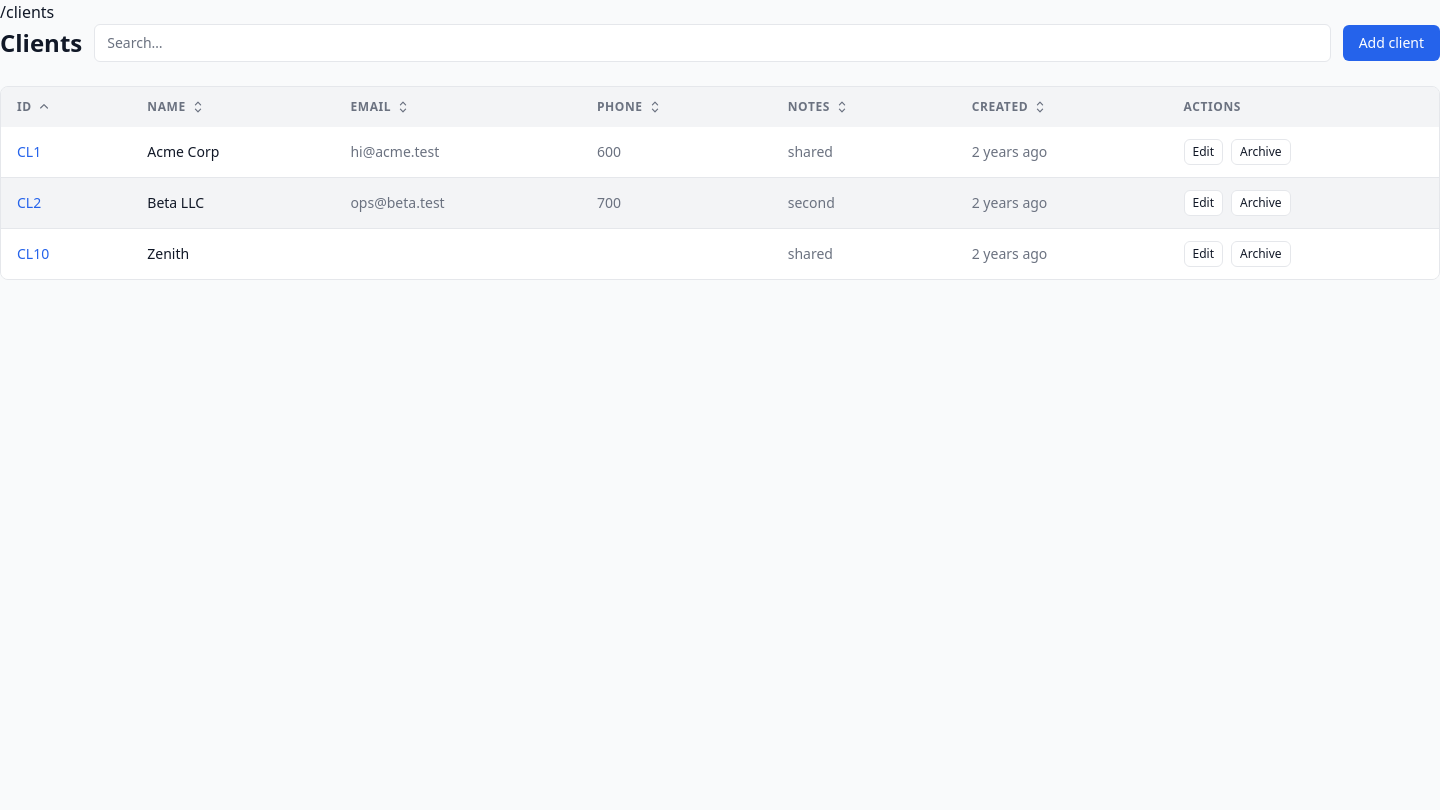
it: ClientsPage › edits a client from its row without navigating
The width and height of the screenshot is (1440, 810).
Click the button with test id "client-edit-CL1" at (1203, 152), box [1184,139,1223,165]
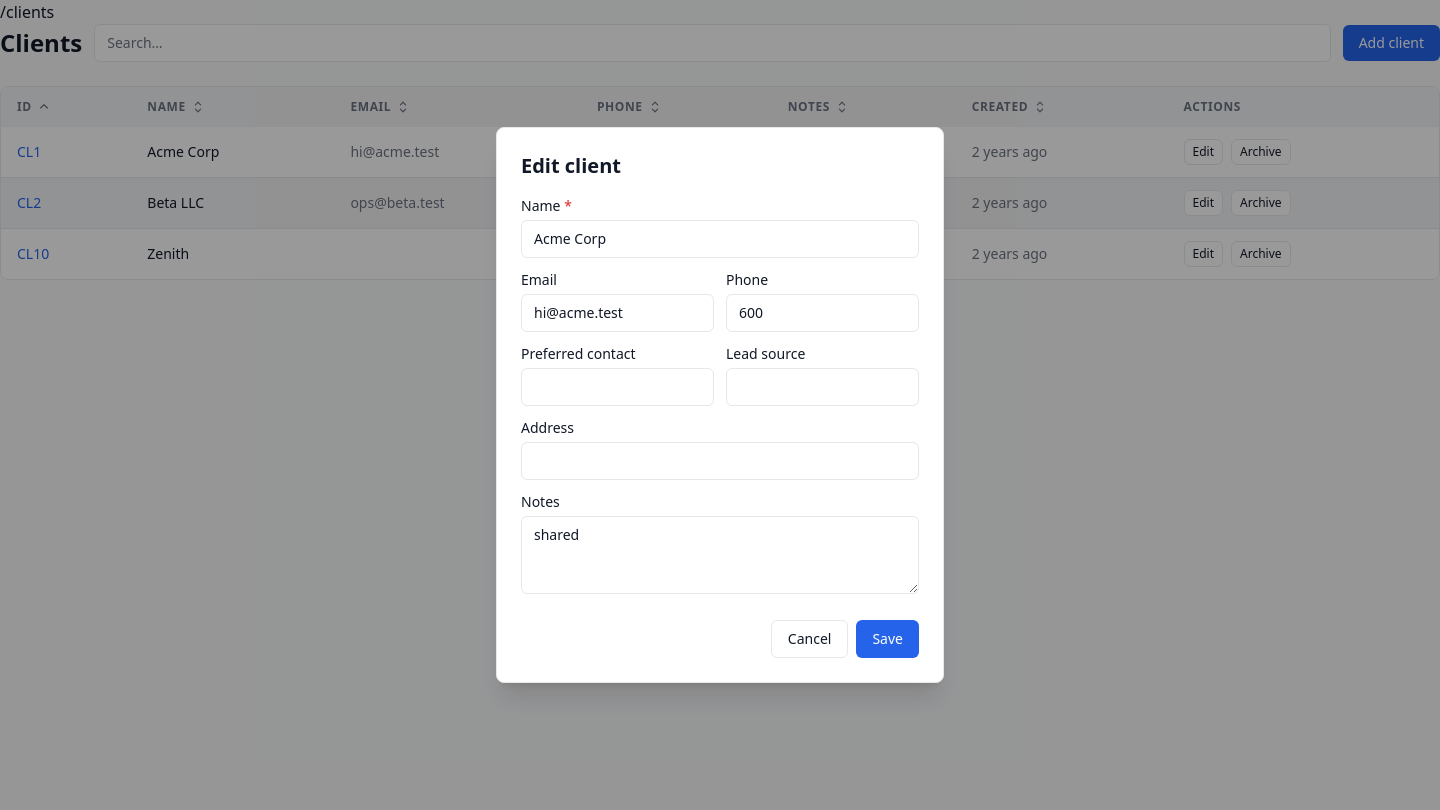
Check: the heading "Edit client" is shown, box [521,152,621,179]
Replace the text in the field labelled "Name *" with "Acme Renamed" at (720, 239), box [521,220,919,258]
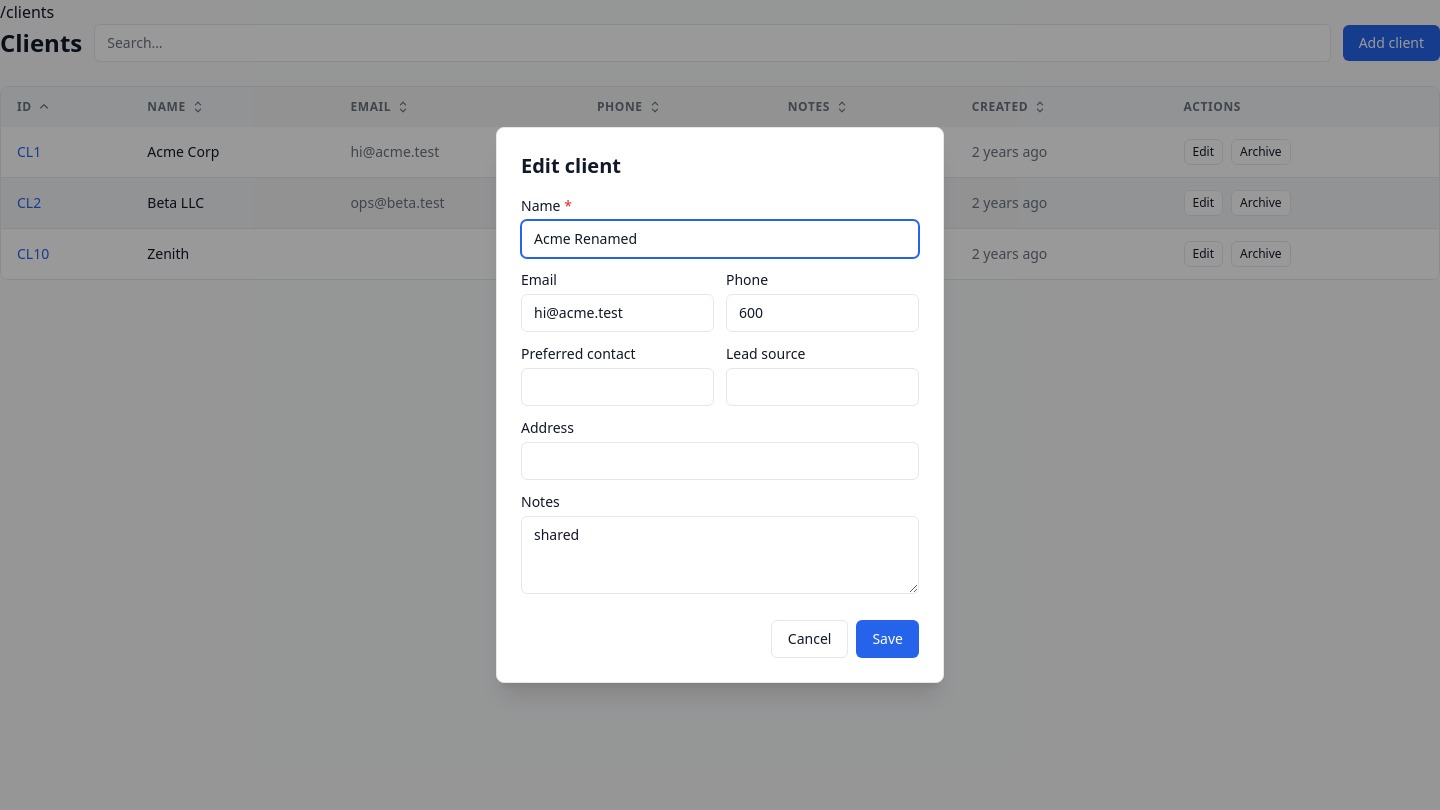
Click the button "Save" at (888, 639), box [856,620,919,658]
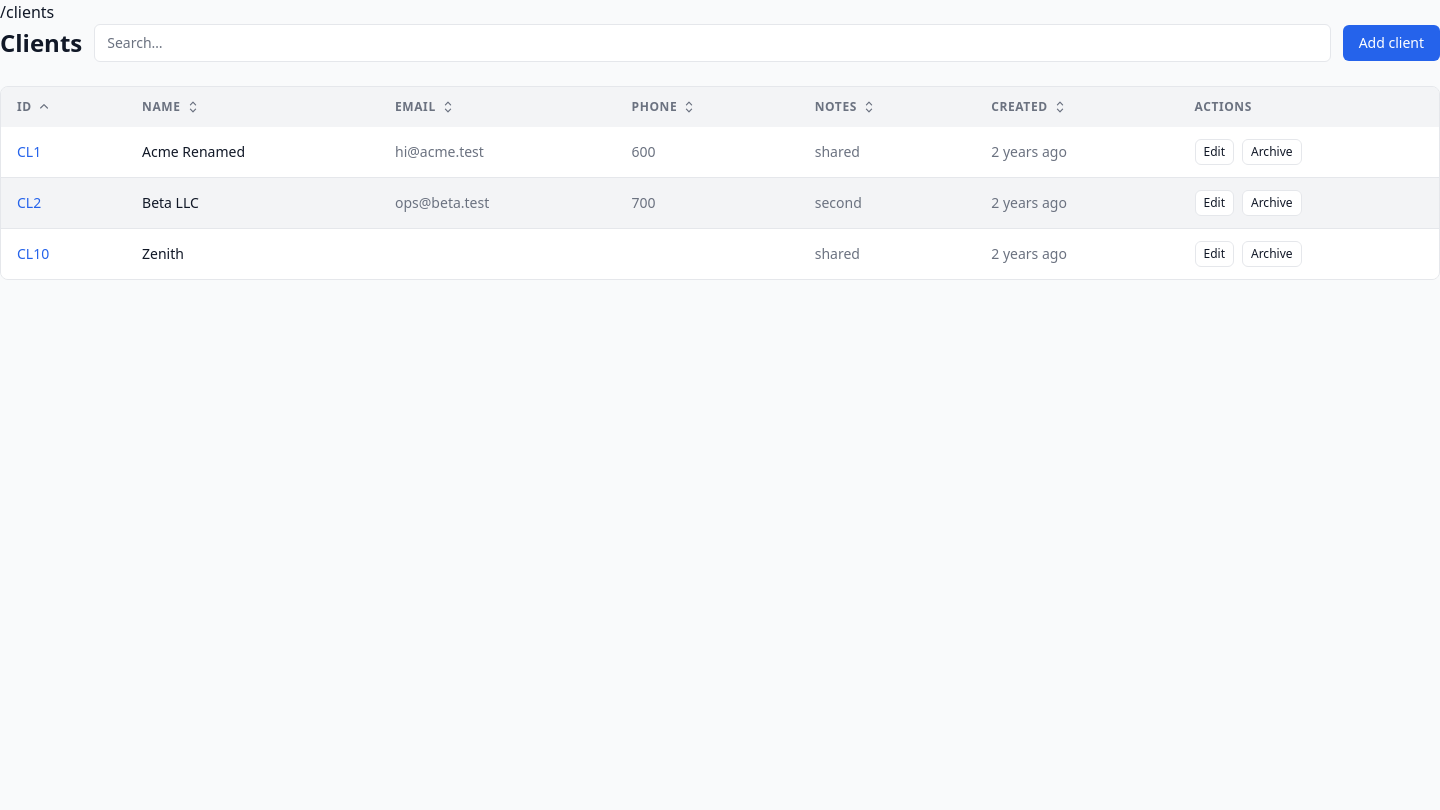
Check: the text with test id "location" reads "/clients", box [0,1,54,23]
Check: the cell "Acme Renamed" is shown, box [126,127,379,178]
